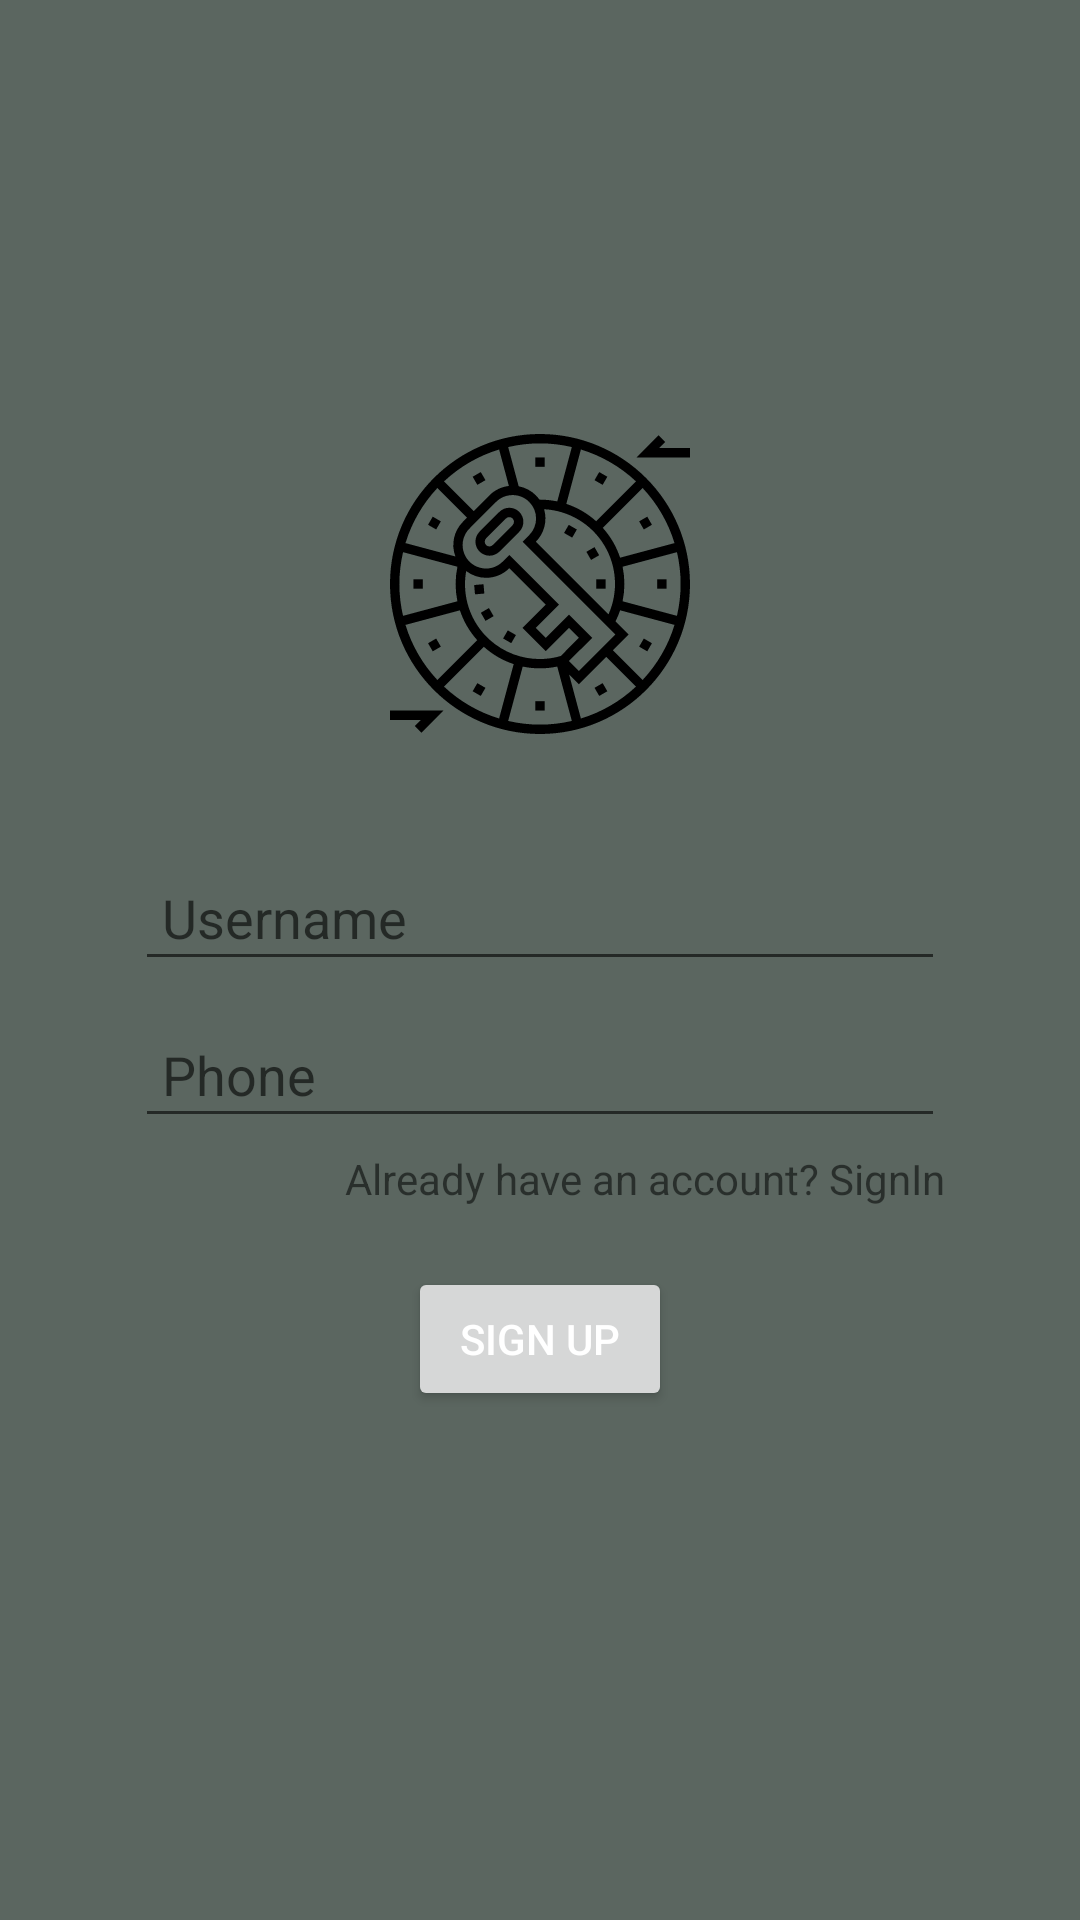

Locate icon controls on the screen. Image size 1080*1920, boxes as (x1, y1, x2, y2).
cipher: (390, 434, 690, 734)
